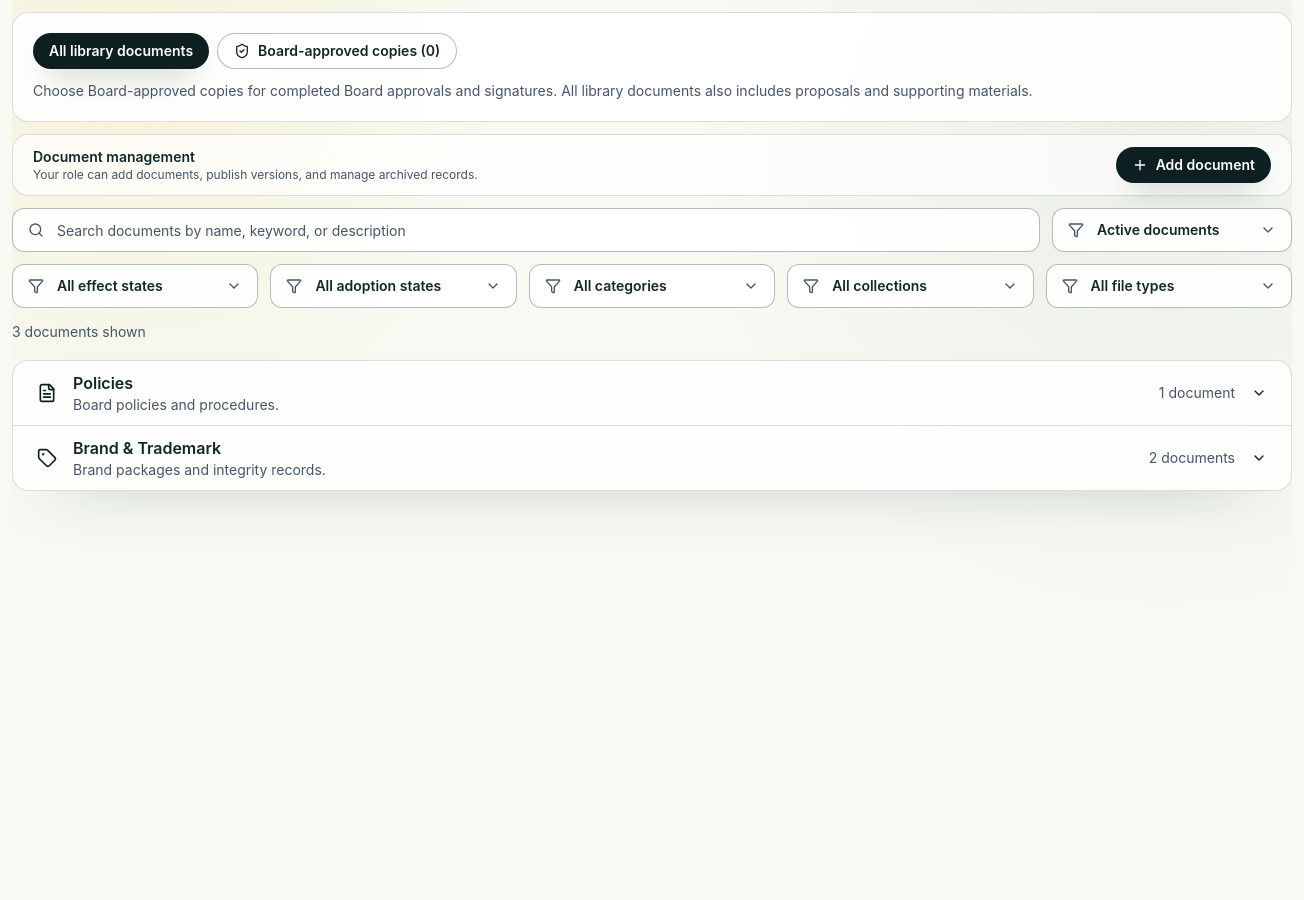
Scenario: DocumentLibrary › combines search, status, category, collection, and actual file type, then clears them
The image size is (1304, 900).
Select "All documents" in the 1st dropdown named "Filter by document status" at (1172, 230), box [1052, 208, 1292, 252]
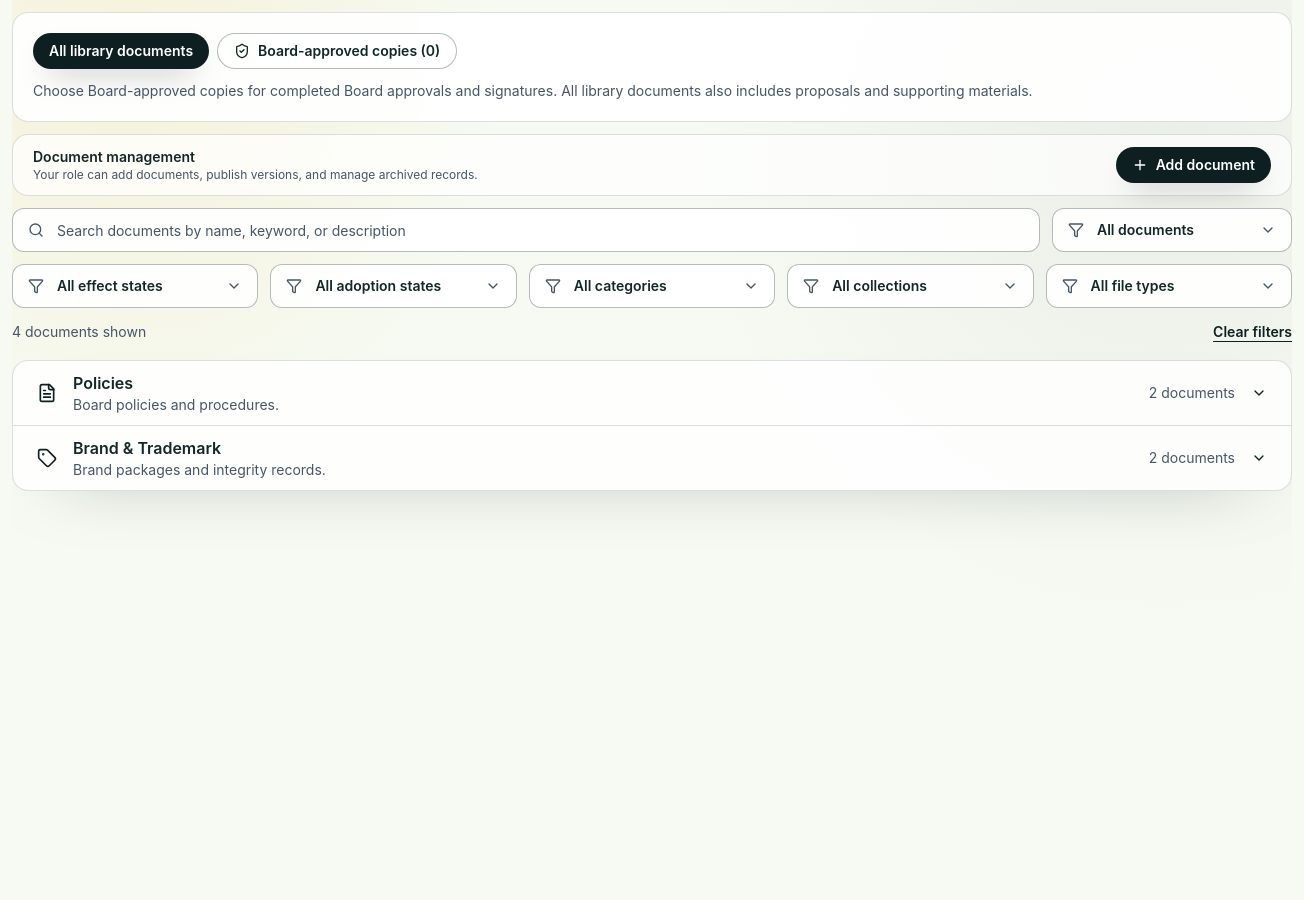
Select "Brand & Trademark" in the 4th dropdown named "Filter by category" at (652, 286), box [529, 264, 775, 308]
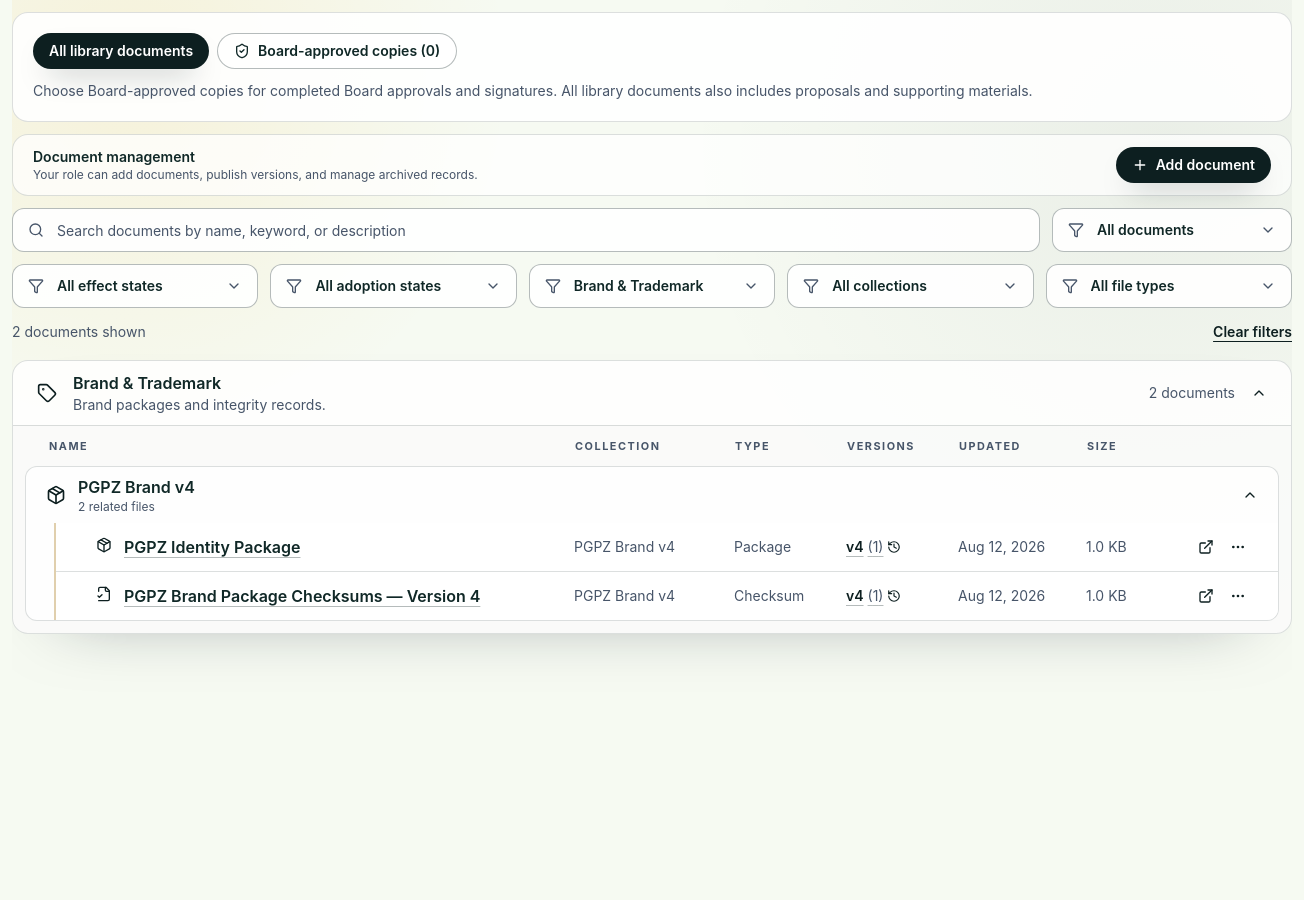
Select "PGPZ Brand v4" in the 5th dropdown named "Filter by collection" at (910, 286), box [787, 264, 1034, 308]
Select "ZIP" in the 6th dropdown named "Filter by file type" at (1169, 286), box [1046, 264, 1292, 308]
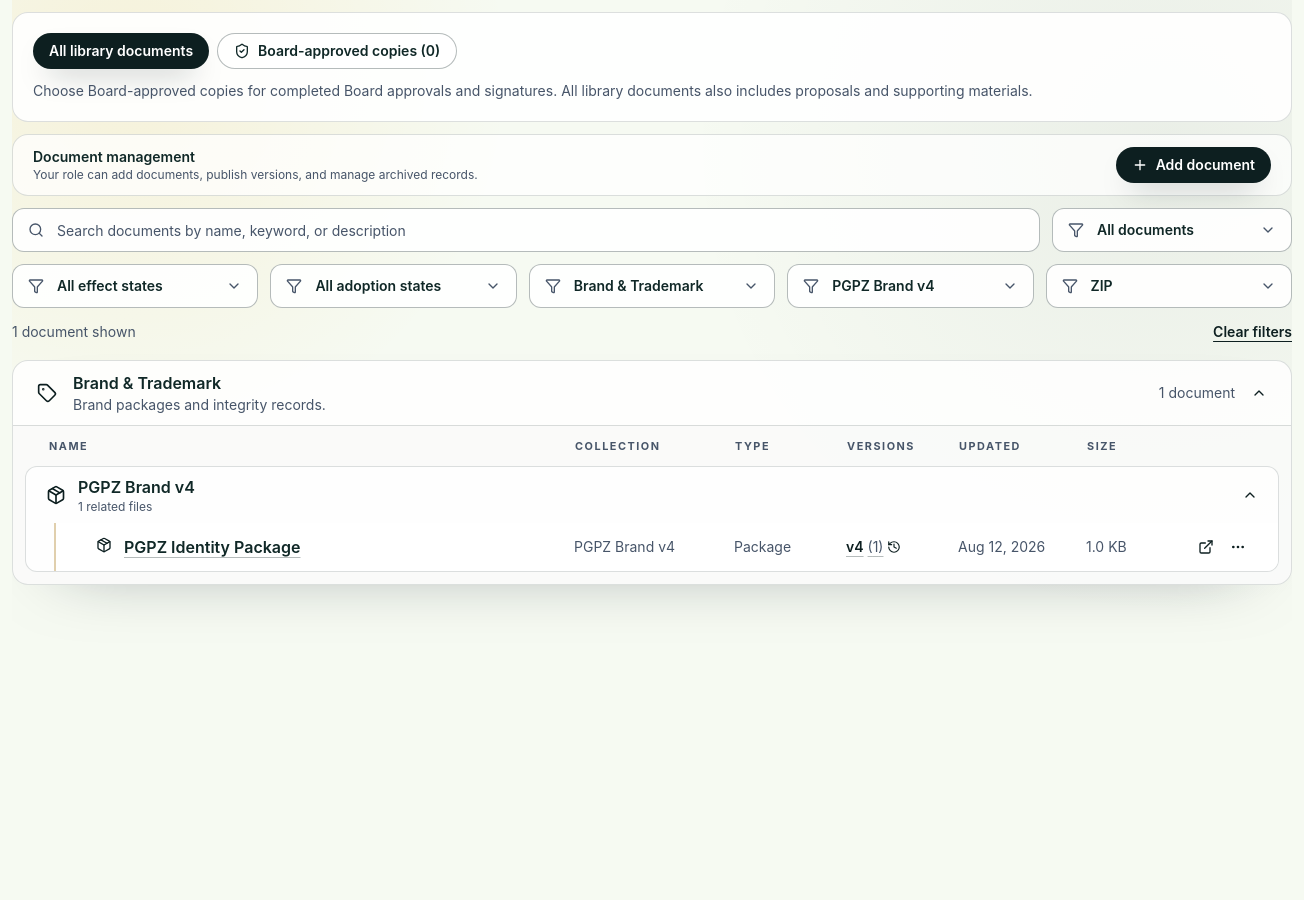
Type "  identity  " into the search field.
click(526, 230); type("  identity  ")  # box [12, 208, 1040, 252]
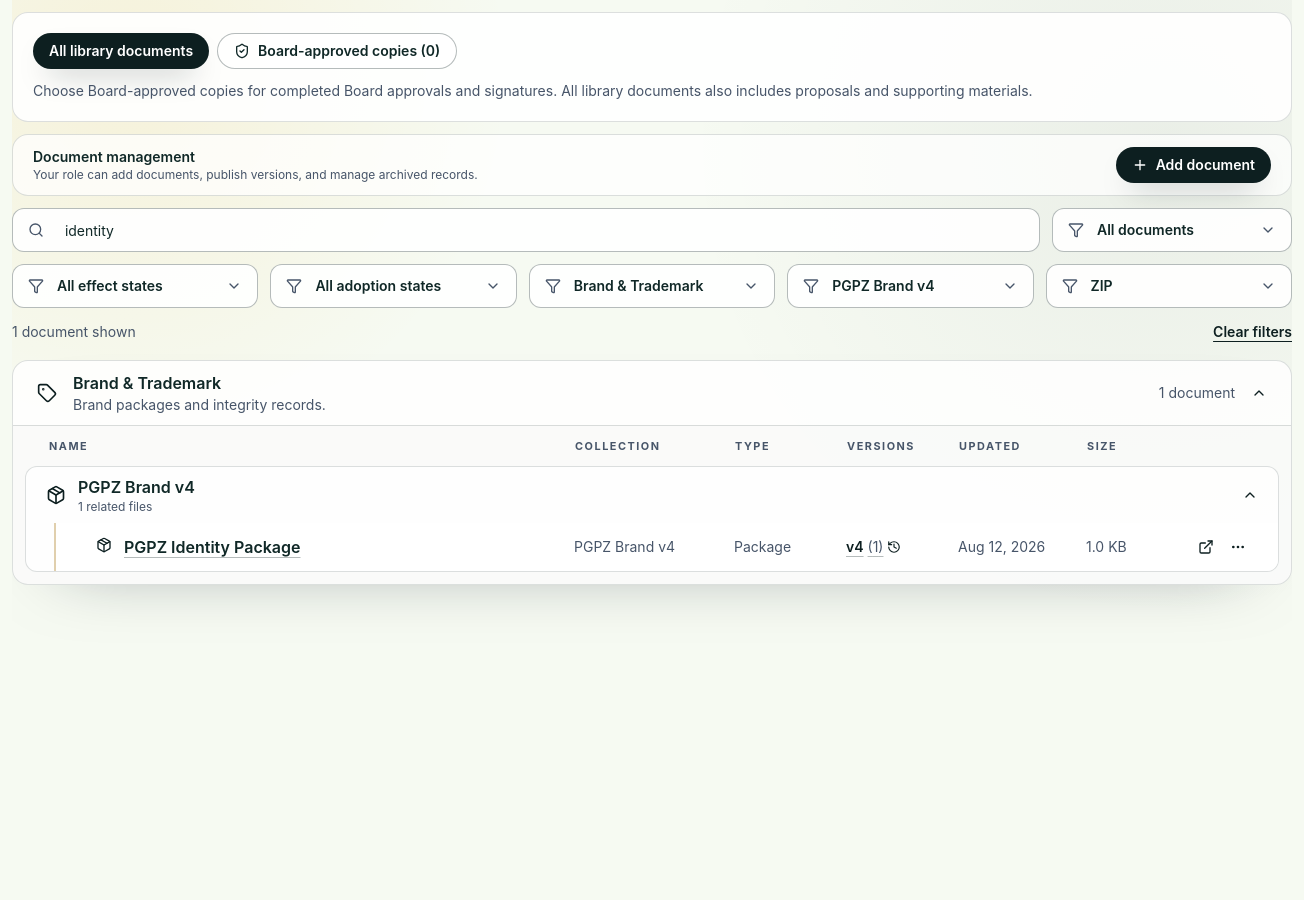
Expected: the link "PGPZ Brand Package Checksums — Version 4" is not shown
Now the text "1 document shown" is shown, box [12, 322, 136, 342]
Now the link "PGPZ Identity Package" is shown, box [124, 535, 300, 559]
Select "PDF" in the 6th dropdown named "Filter by file type" at (1169, 286), box [1046, 264, 1292, 308]
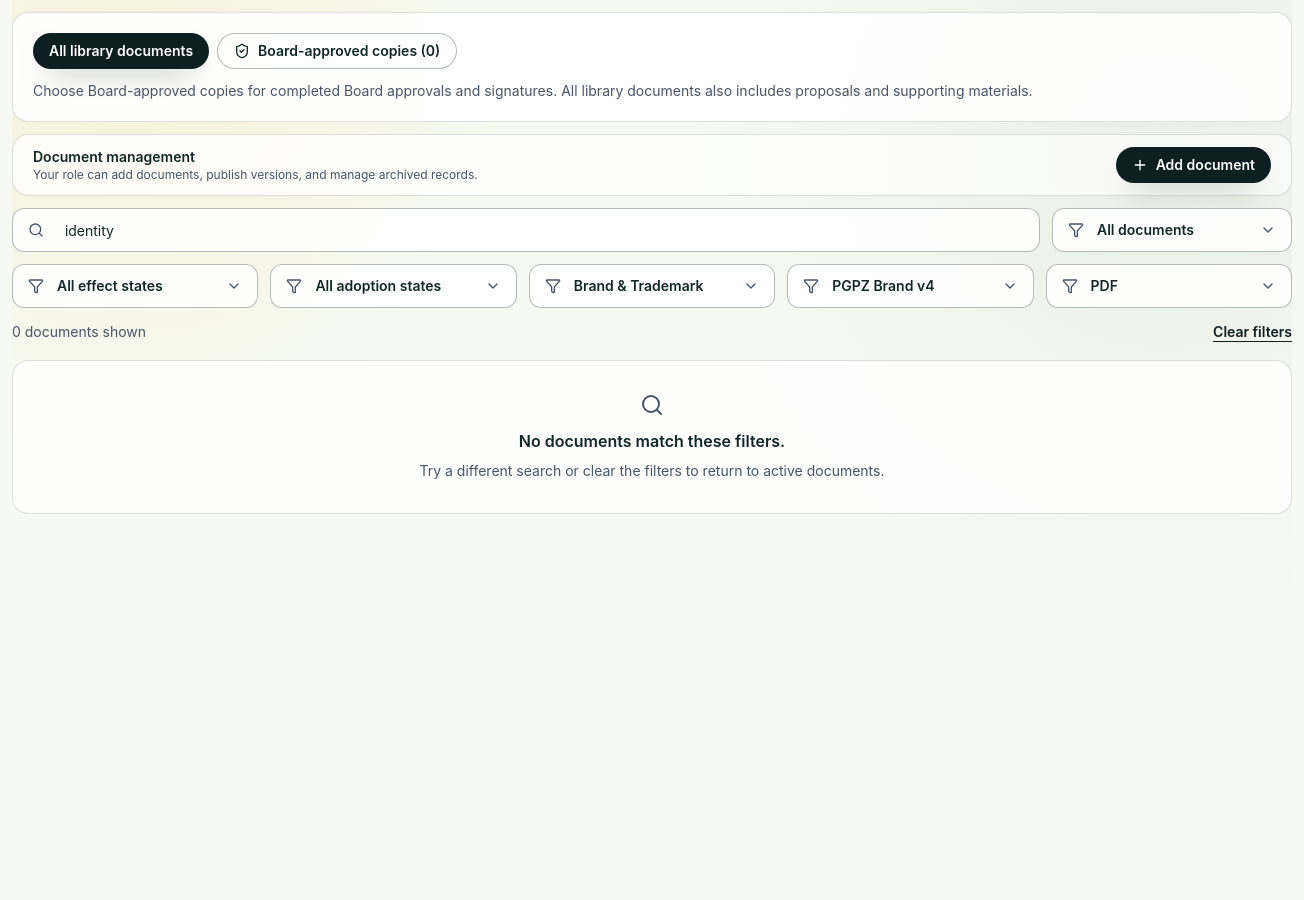
Now the text "No documents match these filters." is shown, box [519, 431, 785, 451]
Now the text "0 documents shown" is shown, box [12, 322, 146, 342]
Click the button "Clear filters".
click(1253, 332)  # box [1213, 322, 1292, 342]
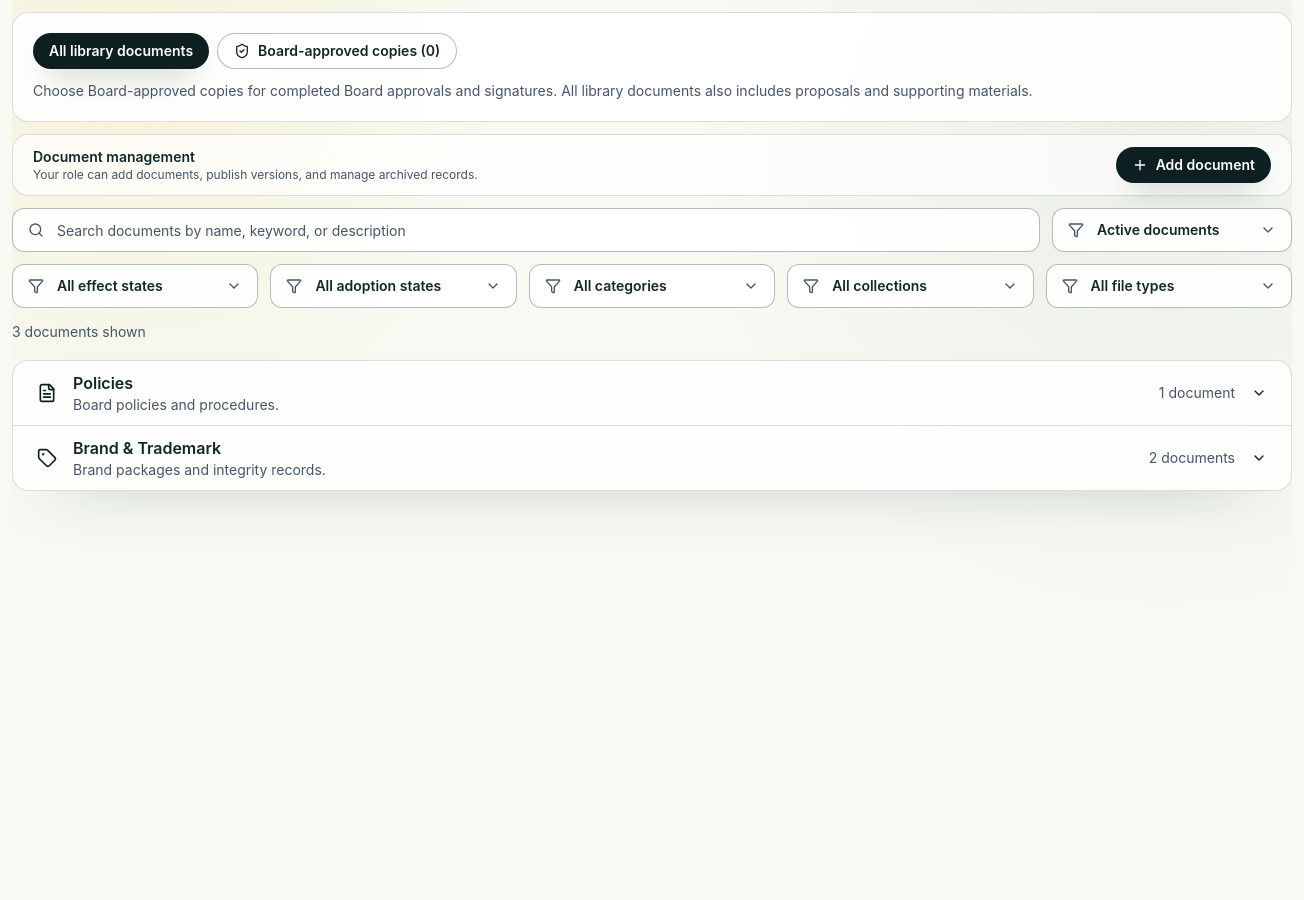
Now the button "Brand & Trademark" is collapsed, box [13, 426, 1291, 490]
Now the search field is empty, box [12, 208, 1040, 252]
Now the text "3 documents shown" is shown, box [12, 322, 146, 342]
